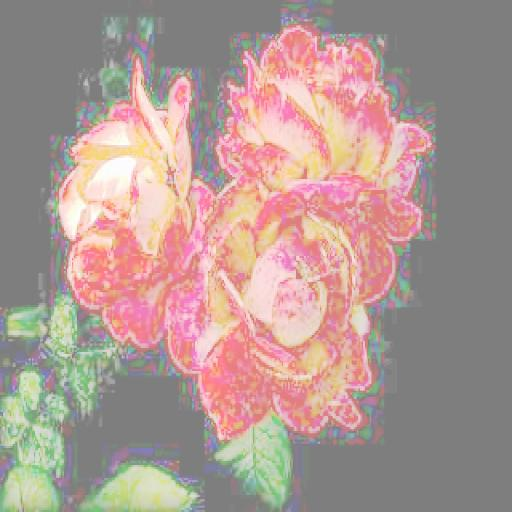rose: (194, 173, 412, 433), (232, 26, 426, 213), (61, 81, 195, 248)
